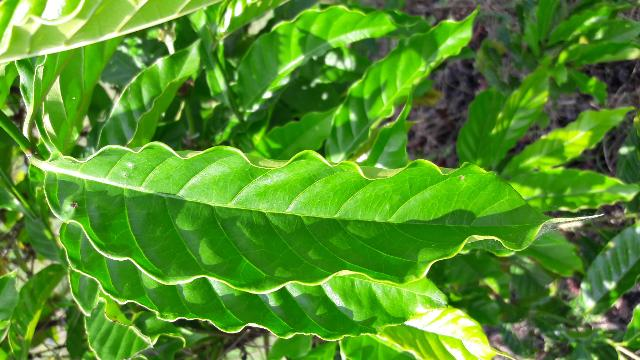healthy: (39, 136, 609, 298)
